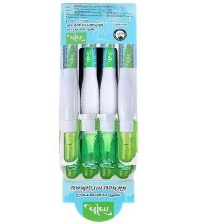book: (55, 1, 139, 223)
correction_fluid: (112, 19, 136, 165), (77, 20, 100, 169), (96, 19, 118, 169), (60, 22, 82, 167)
